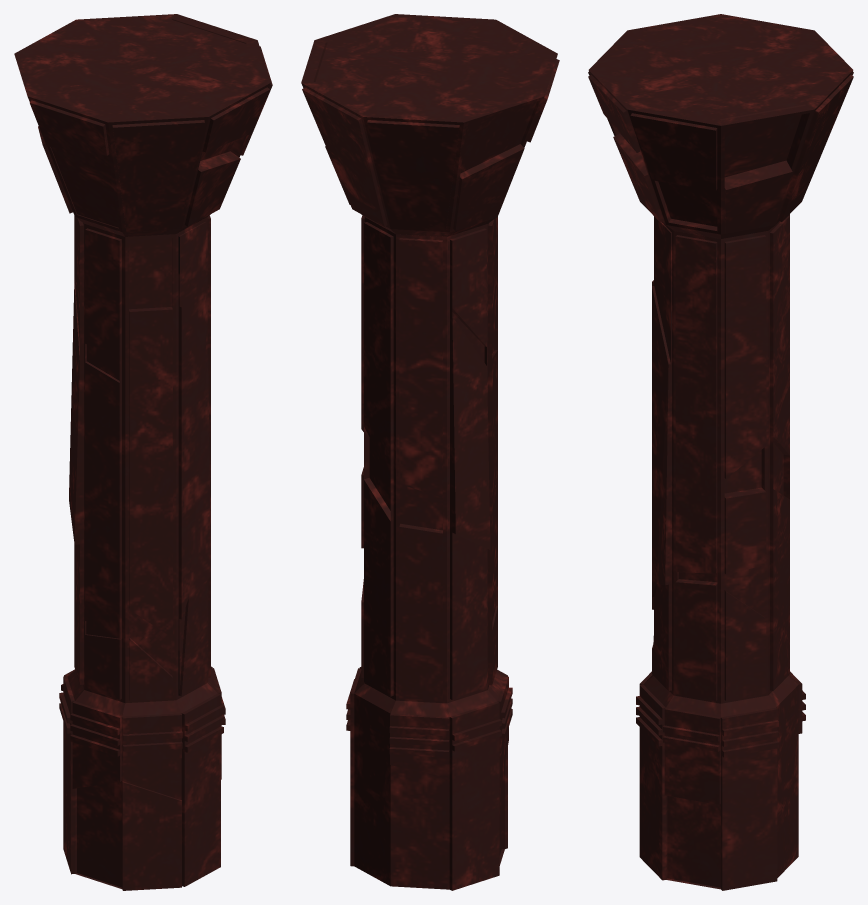
The model's file is Pillar_WoodCursed.glb.
The picture shows the model from 3 angles, left to right: view 1: azimuth 30°, elevation 25°; view 2: azimuth 150°, elevation 25°; view 3: azimuth 270°, elevation 25°; orthographic projection.
Visible parts, largest first — view 1: body; view 2: body; view 3: body.
Part boxes in pixels (x1,y1,x2,y2): body: (14, 14, 272, 890); body: (301, 14, 559, 890); body: (588, 14, 853, 890).
Bounding box in the file's own units: 3.42 × 11.17 × 3.42.
Materials: 1 (1 with a texture image).
